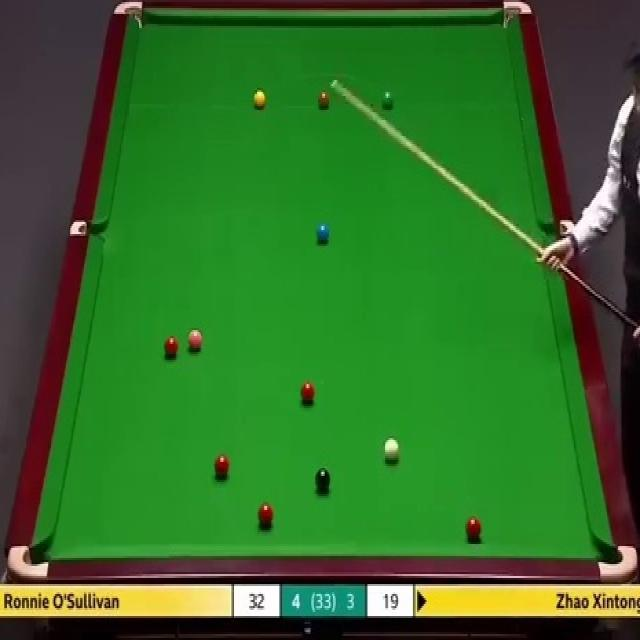pocket: (594, 543, 639, 582), (6, 543, 49, 582), (112, 0, 145, 34), (499, 0, 530, 32), (67, 220, 105, 235), (539, 218, 566, 238)
